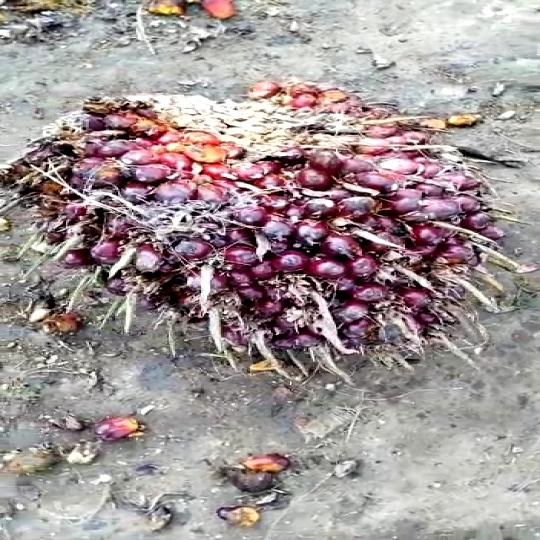masak: (1, 74, 540, 376)
